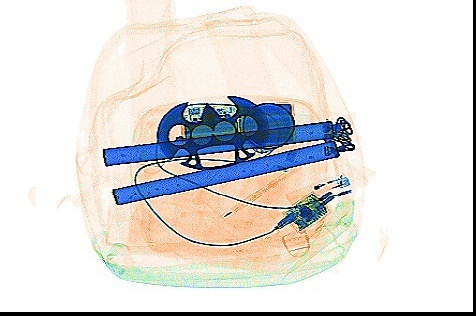lighter: (282, 171, 351, 210)
powerbank: (178, 100, 296, 151)
